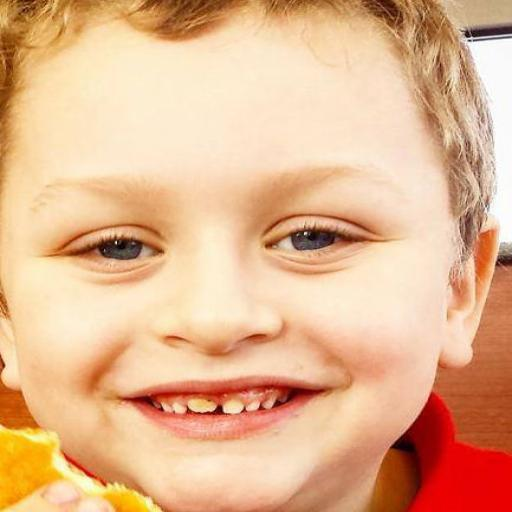Autism: (4, 10, 512, 453)
